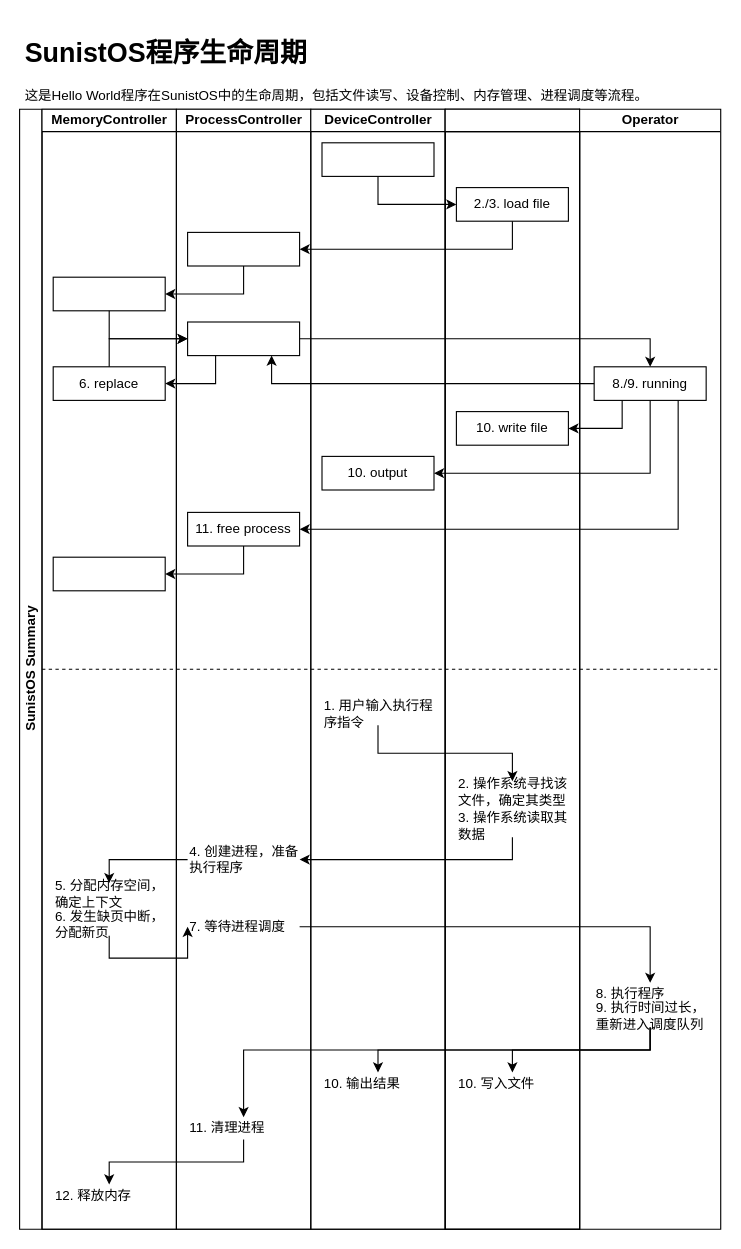
Some shapes in this 741 by 1249 pixel diagram are drawn without their labels. The shapes that lost their labels are listed below. From the top down, each one's centre as x and y in pixels, then its label:
At (x=377, y=159): "1. input".
At (x=243, y=248): "4. create process".
At (x=108, y=293): "5. alloc memory".
At (x=243, y=338): "7. queuing".
At (x=108, y=573): "12. free memory".
At (x=512, y=668): "FileSystem".
